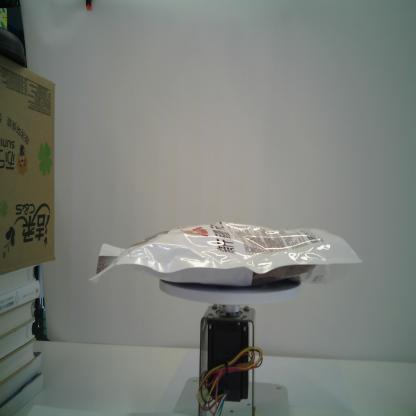Dried Food: (87, 220, 364, 288)
